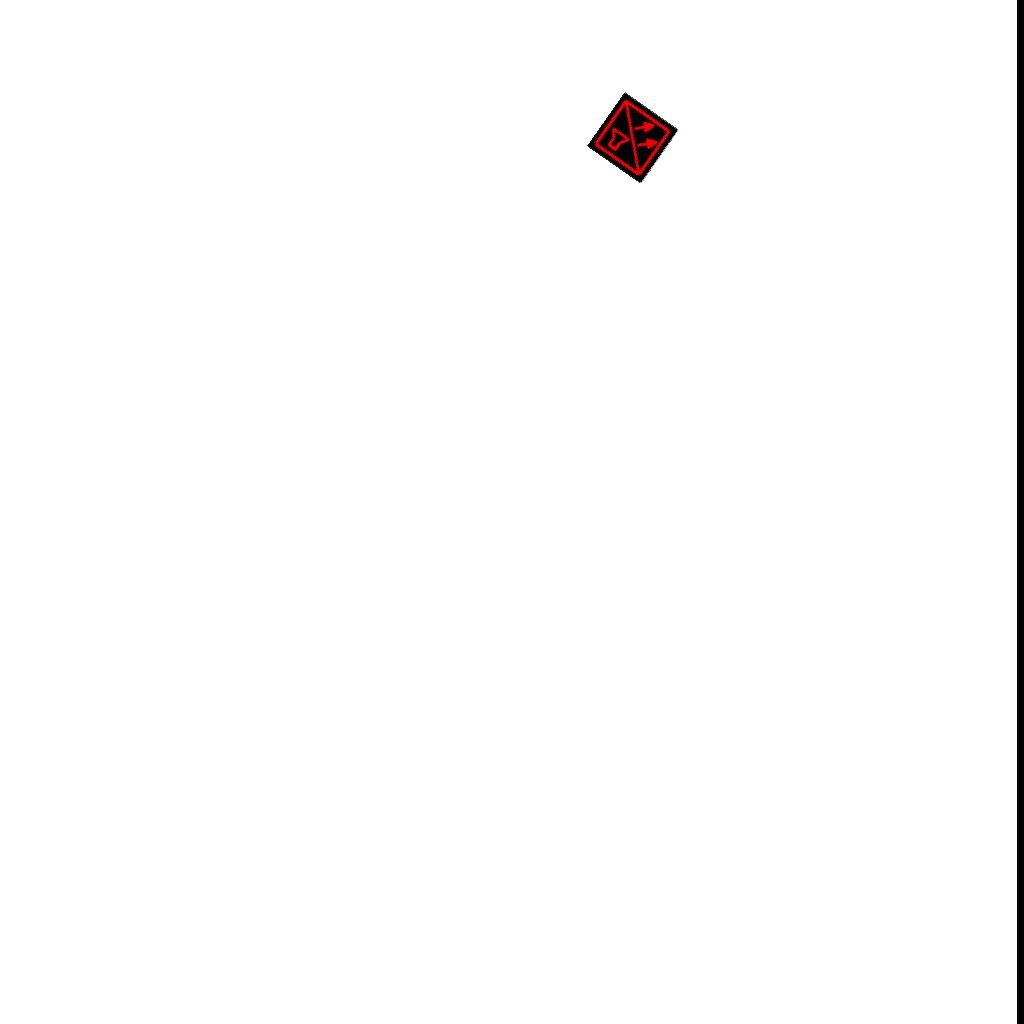OKW_Multisensormelder_(Kombination_optischer_Rauch-Kahlenmonoxid_Waerme-Melder): (587, 92, 679, 184)
